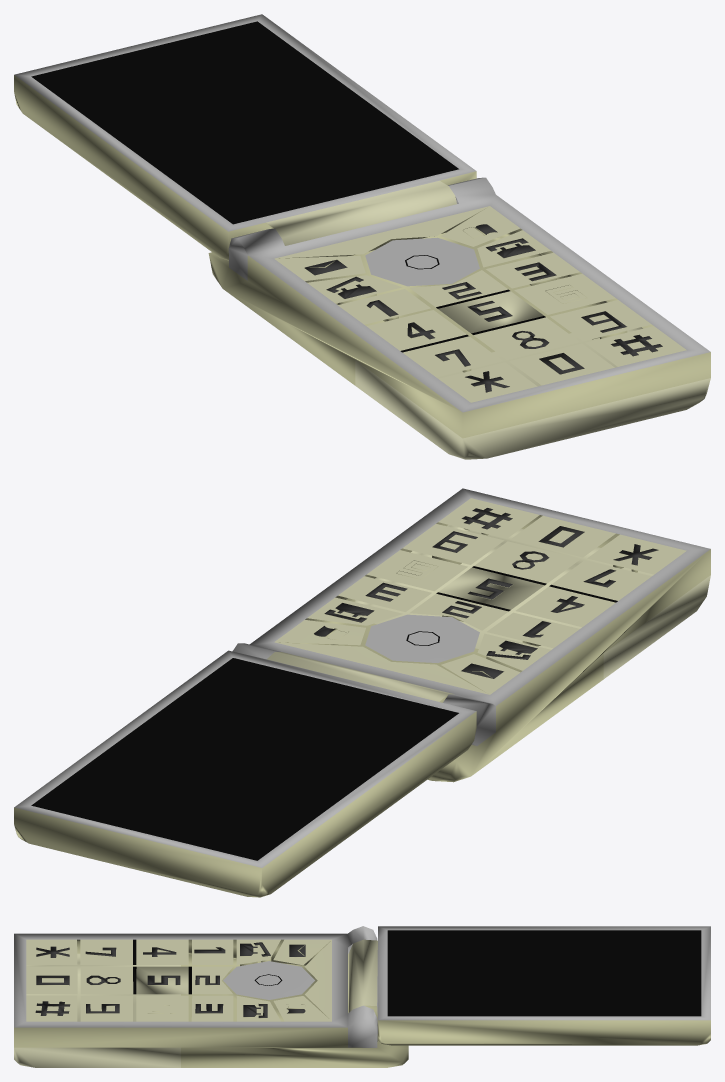
The model's file is asset3.gltf.
3 views of the same model, one above another, from view 1: azimuth 30°, elevation 25°; view 2: azimuth 150°, elevation 25°; view 3: azimuth 270°, elevation 25° (orthographic). The views are drawn at different scales.
Parts seen in each view (by area): view 1: Cube; view 2: Cube; view 3: Cube.
Boxes of the visible parts, x1,y1,x2,y2 form: Cube: (14, 14, 710, 459); Cube: (14, 488, 710, 897); Cube: (14, 926, 710, 1067).
Size of the model in its own units: 2 by 0.4795 by 6.26.
